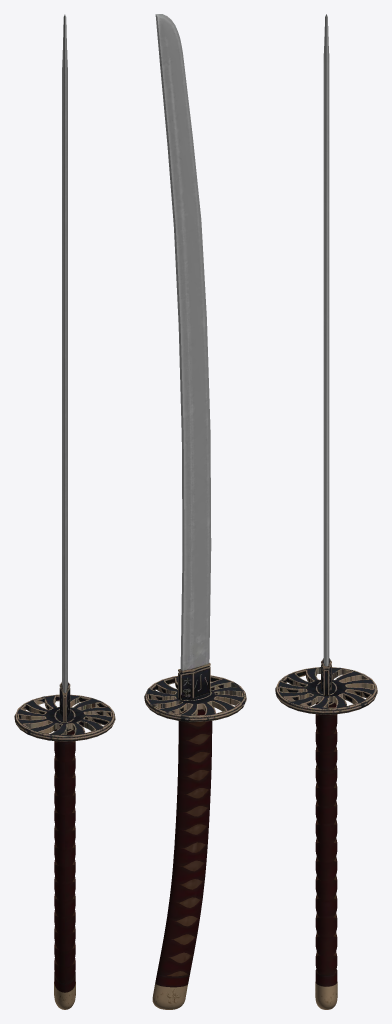
File: design-antique-katana-01.glb
The picture shows the model from 3 angles, left to right: view 1: azimuth 90°, elevation 25°; view 2: azimuth 210°, elevation 25°; view 3: azimuth 270°, elevation 25°; orthographic projection.
Visible parts, largest first — view 1: antique_katana_01; view 2: antique_katana_01; view 3: antique_katana_01.
Boxes of the visible parts, bbox=[...] form: antique_katana_01: bbox=[14, 14, 115, 1009]; antique_katana_01: bbox=[144, 14, 246, 1009]; antique_katana_01: bbox=[275, 14, 377, 1009].
Size of the model in its own units: 0.0934 by 1 by 0.0934.
Materials: 1 (1 with a texture image).
